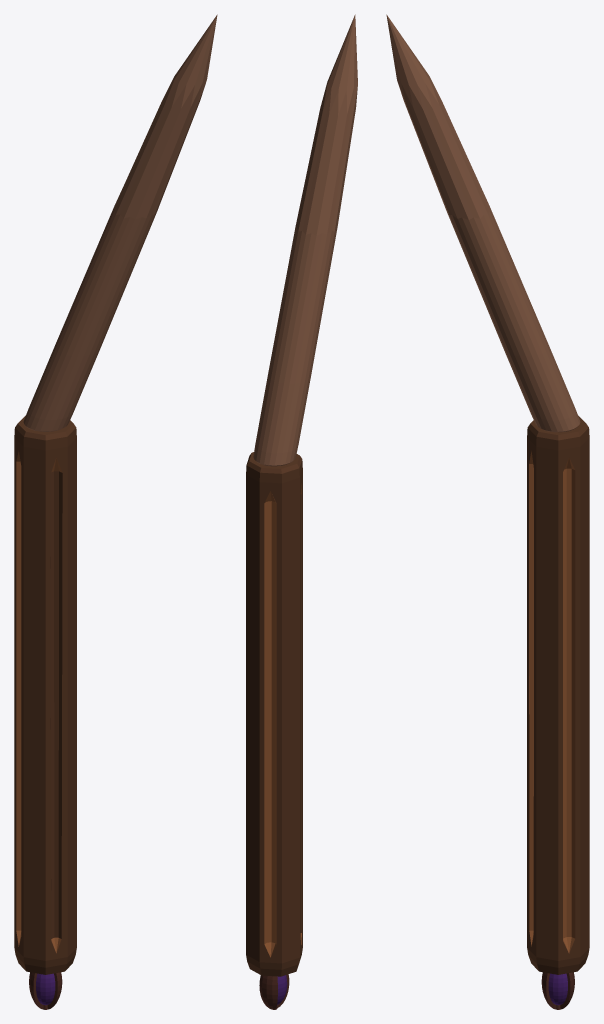
Rendered from Wand 597.glb.
3 renders of one model, left to right at view 1: azimuth 90°, elevation 25°; view 2: azimuth 150°, elevation 25°; view 3: azimuth 270°, elevation 25°, orthographic. The views are drawn at different scales.
Parts seen in each view (by area): view 1: GeneratedWand; view 2: GeneratedWand; view 3: GeneratedWand.
Part boxes in pixels (x1,y1,x2,y2): GeneratedWand: [14, 14, 217, 1009]; GeneratedWand: [246, 14, 357, 1009]; GeneratedWand: [386, 14, 589, 1009].
Size of the model in its own units: 0.0289 by 0.5075 by 0.0939.
